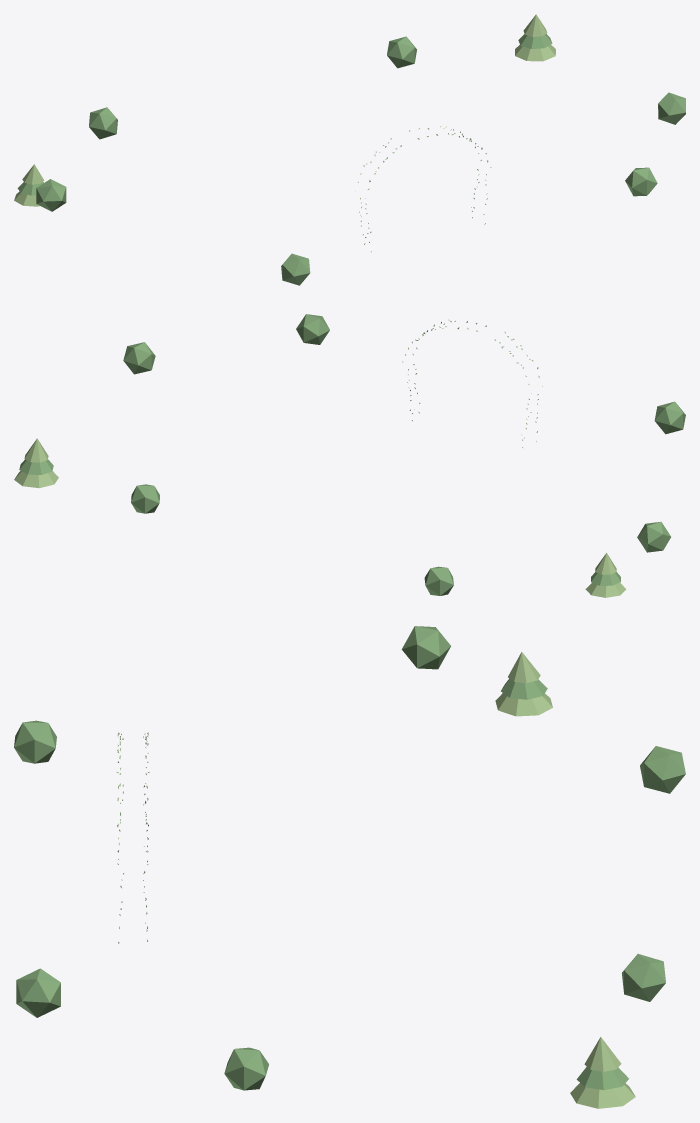
The model's file is boss_sanctuary_wind_canopies.fbx.
3 renders of one model, top to bottom at view 1: azimuth 30°, elevation 25°; view 2: azimuth 150°, elevation 25°; view 3: azimuth 270°, elevation 25°, orthographic. The views are drawn at different scales.
Visible parts, largest first — view 1: chunk_boss_sanctuary__tree_canopy_01, chunk_boss_sanctuary__tree_canopy_105, chunk_boss_sanctuary__tree_canopy_05, chunk_boss_sanctuary__tree_canopy_06, chunk_boss_sanctuary__tree_canopy_110, chunk_boss_sanctuary__tree_canopy_106, chunk_boss_sanctuary__tree_canopy_107; view 2: chunk_boss_sanctuary__tree_canopy_110, chunk_boss_sanctuary__tree_canopy_106, chunk_boss_sanctuary__tree_canopy_05, chunk_boss_sanctuary__tree_canopy_01, chunk_boss_sanctuary__tree_canopy_105, chunk_boss_sanctuary__tree_canopy_06, chunk_boss_sanctuary__tree_canopy_107, chunk_boss_sanctuary__tree_canopy_04; view 3: chunk_boss_sanctuary__tree_canopy_106, chunk_boss_sanctuary__tree_canopy_06, chunk_boss_sanctuary__tree_canopy_105, chunk_boss_sanctuary__tree_canopy_01, chunk_boss_sanctuary__tree_canopy_05, chunk_boss_sanctuary__tree_canopy_110, chunk_boss_sanctuary__tree_canopy_107, chunk_boss_sanctuary__tree_canopy_04, chunk_boss_sanctuary__tree_canopy_109, chunk_boss_sanctuary__tree_canopy_108.
Boxes of the visible parts, x1=… form: chunk_boss_sanctuary__tree_canopy_01: x1=36, y1=179, x2=66, y2=211; chunk_boss_sanctuary__tree_canopy_105: x1=387, y1=36, x2=416, y2=68; chunk_boss_sanctuary__tree_canopy_05: x1=281, y1=253, x2=310, y2=285; chunk_boss_sanctuary__tree_canopy_06: x1=89, y1=107, x2=117, y2=139; chunk_boss_sanctuary__tree_canopy_110: x1=658, y1=92, x2=685, y2=124; chunk_boss_sanctuary__tree_canopy_106: x1=625, y1=167, x2=657, y2=196; chunk_boss_sanctuary__tree_canopy_107: x1=515, y1=45, x2=555, y2=61; chunk_boss_sanctuary__tree_canopy_110: x1=123, y1=342, x2=155, y2=374; chunk_boss_sanctuary__tree_canopy_106: x1=296, y1=314, x2=329, y2=344; chunk_boss_sanctuary__tree_canopy_05: x1=654, y1=401, x2=685, y2=434; chunk_boss_sanctuary__tree_canopy_01: x1=637, y1=521, x2=670, y2=552; chunk_boss_sanctuary__tree_canopy_105: x1=131, y1=484, x2=159, y2=513; chunk_boss_sanctuary__tree_canopy_06: x1=424, y1=566, x2=453, y2=595; chunk_boss_sanctuary__tree_canopy_107: x1=14, y1=471, x2=58, y2=488; chunk_boss_sanctuary__tree_canopy_04: x1=585, y1=582, x2=626, y2=597; chunk_boss_sanctuary__tree_canopy_106: x1=16, y1=968, x2=60, y2=1017; chunk_boss_sanctuary__tree_canopy_06: x1=640, y1=746, x2=685, y2=793; chunk_boss_sanctuary__tree_canopy_105: x1=622, y1=954, x2=665, y2=1001; chunk_boss_sanctuary__tree_canopy_01: x1=401, y1=626, x2=450, y2=669; chunk_boss_sanctuary__tree_canopy_05: x1=14, y1=720, x2=56, y2=763; chunk_boss_sanctuary__tree_canopy_110: x1=224, y1=1047, x2=268, y2=1090; chunk_boss_sanctuary__tree_canopy_107: x1=570, y1=1083, x2=635, y2=1108; chunk_boss_sanctuary__tree_canopy_04: x1=495, y1=693, x2=552, y2=716; chunk_boss_sanctuary__tree_canopy_109: x1=576, y1=1067, x2=628, y2=1090; chunk_boss_sanctuary__tree_canopy_108: x1=584, y1=1037, x2=621, y2=1071.
Size of the model in its own units: 323 by 54.81 by 213.
